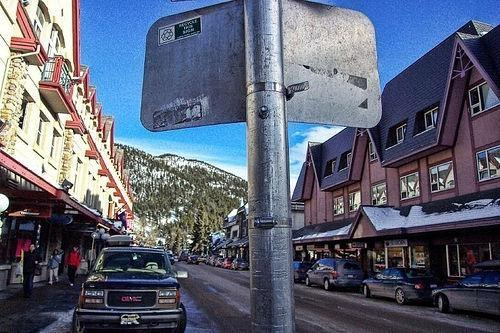car: (432, 269, 500, 318), (362, 268, 444, 306), (306, 259, 364, 291), (293, 261, 314, 283), (230, 258, 248, 270), (220, 258, 234, 268), (186, 256, 200, 265), (214, 257, 224, 267)
truck: (72, 246, 186, 326)
